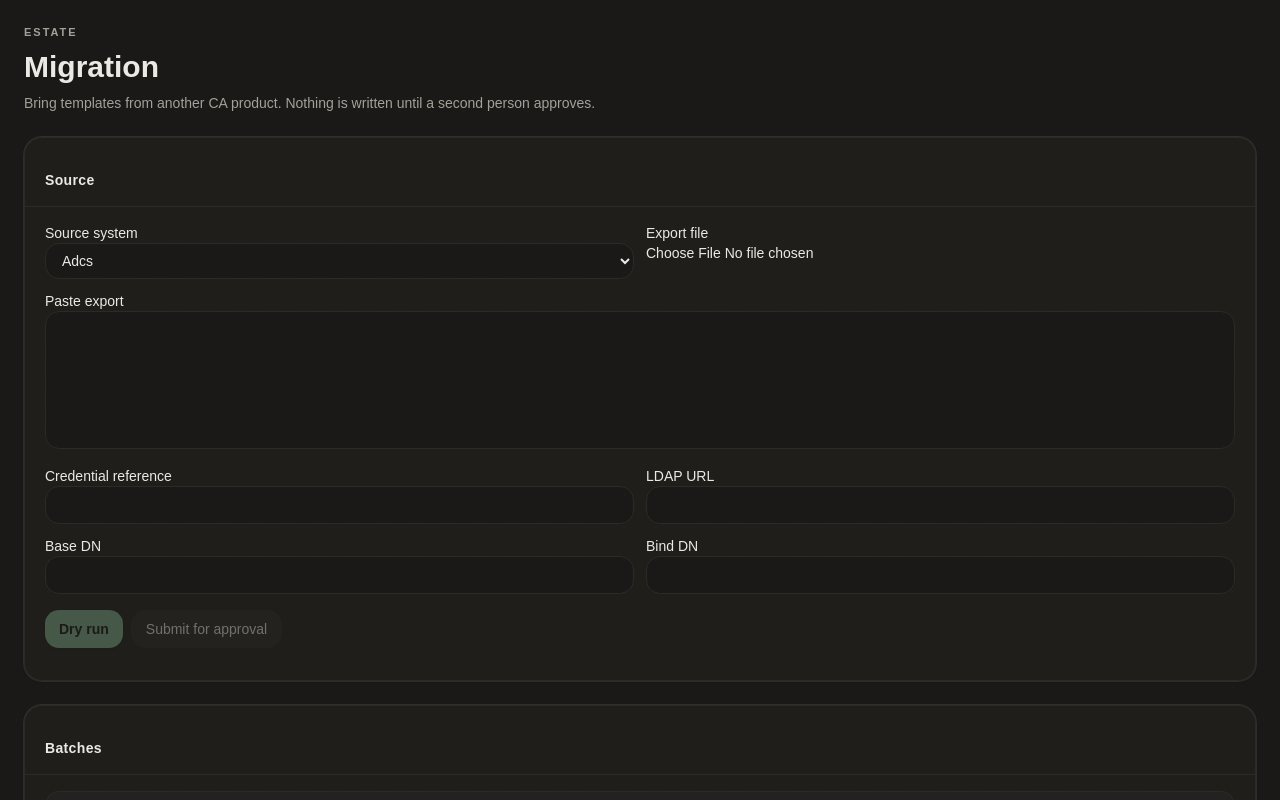
Scenario: Migration › an update-only dry run can be submitted and shows the key-size note
Step 1. Select "Vault" in the dropdown labelled "Source system" → (340, 260), box [45,242,634,278]
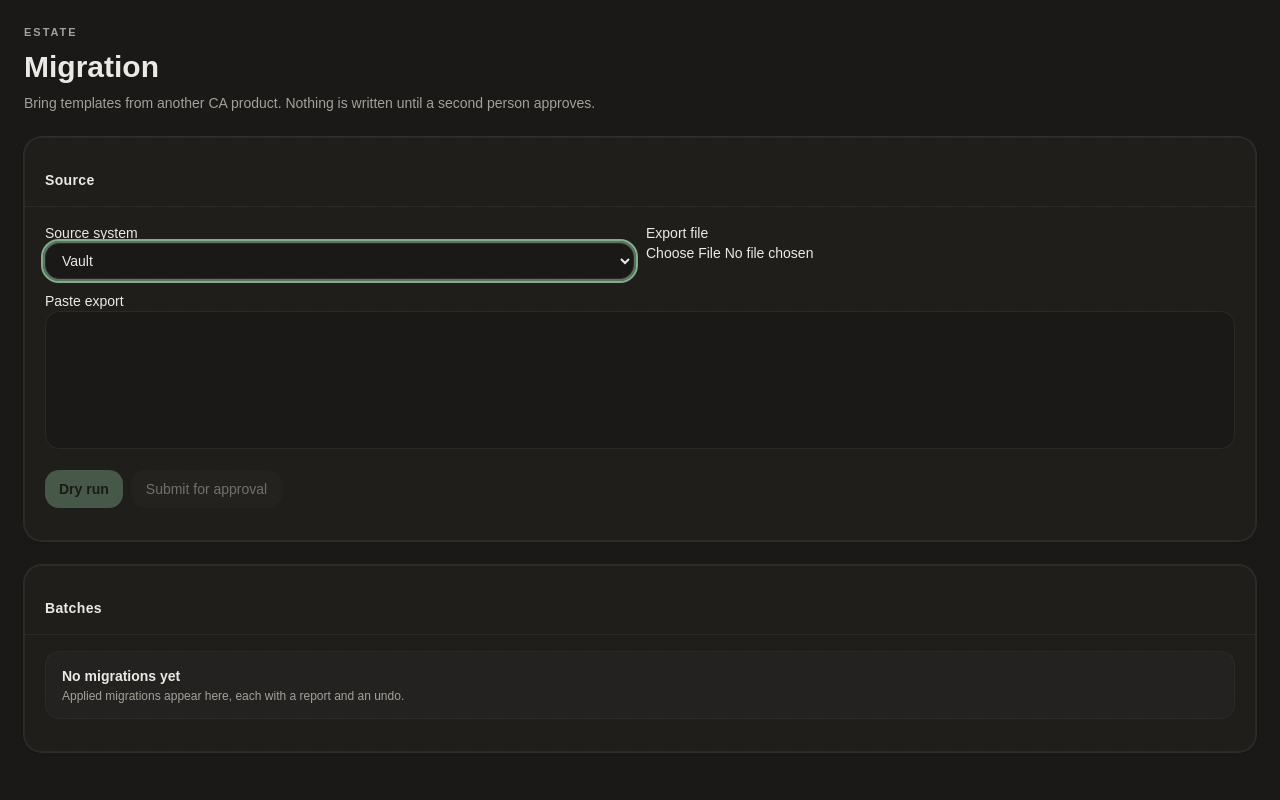
Step 2. Type "abc" into the text box labelled "Paste export" → (640, 380), box [45,310,1235,448]
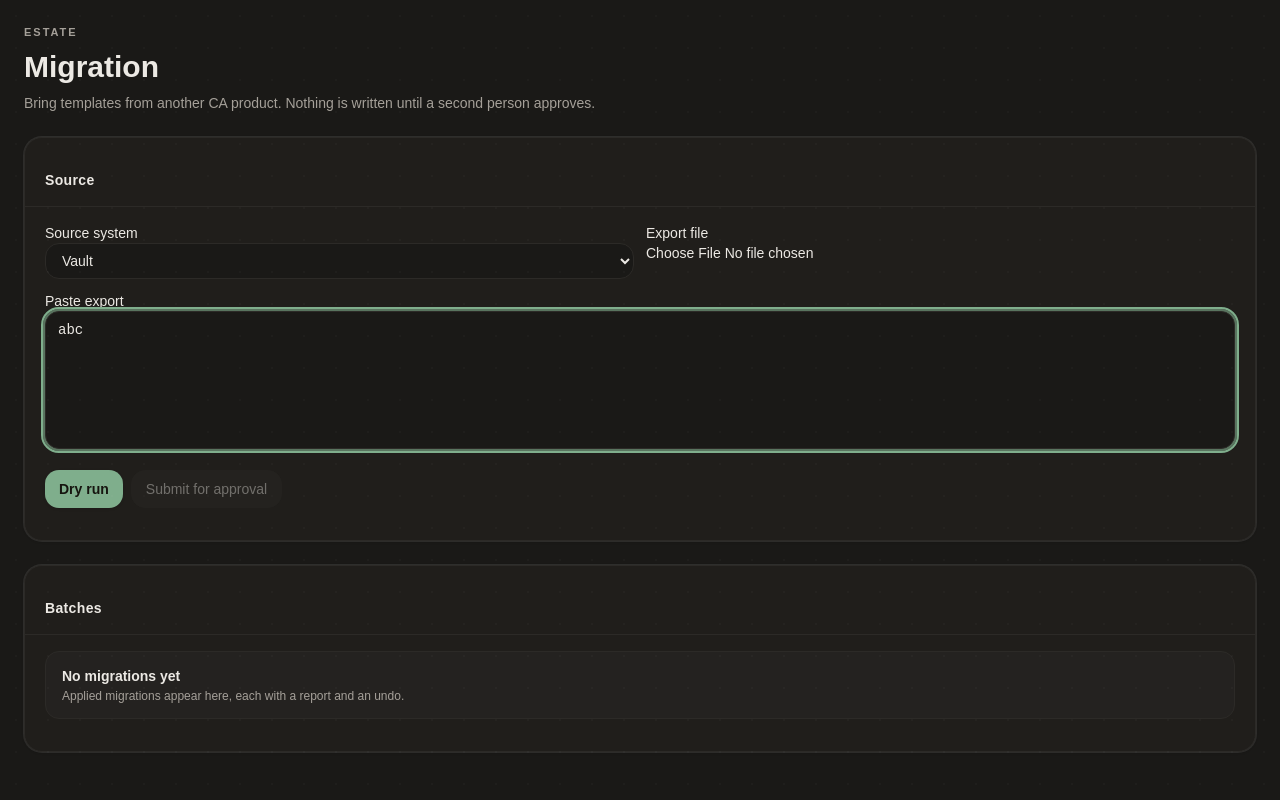
Step 3. Click the button "Dry run" → (84, 488), box [45,470,123,508]
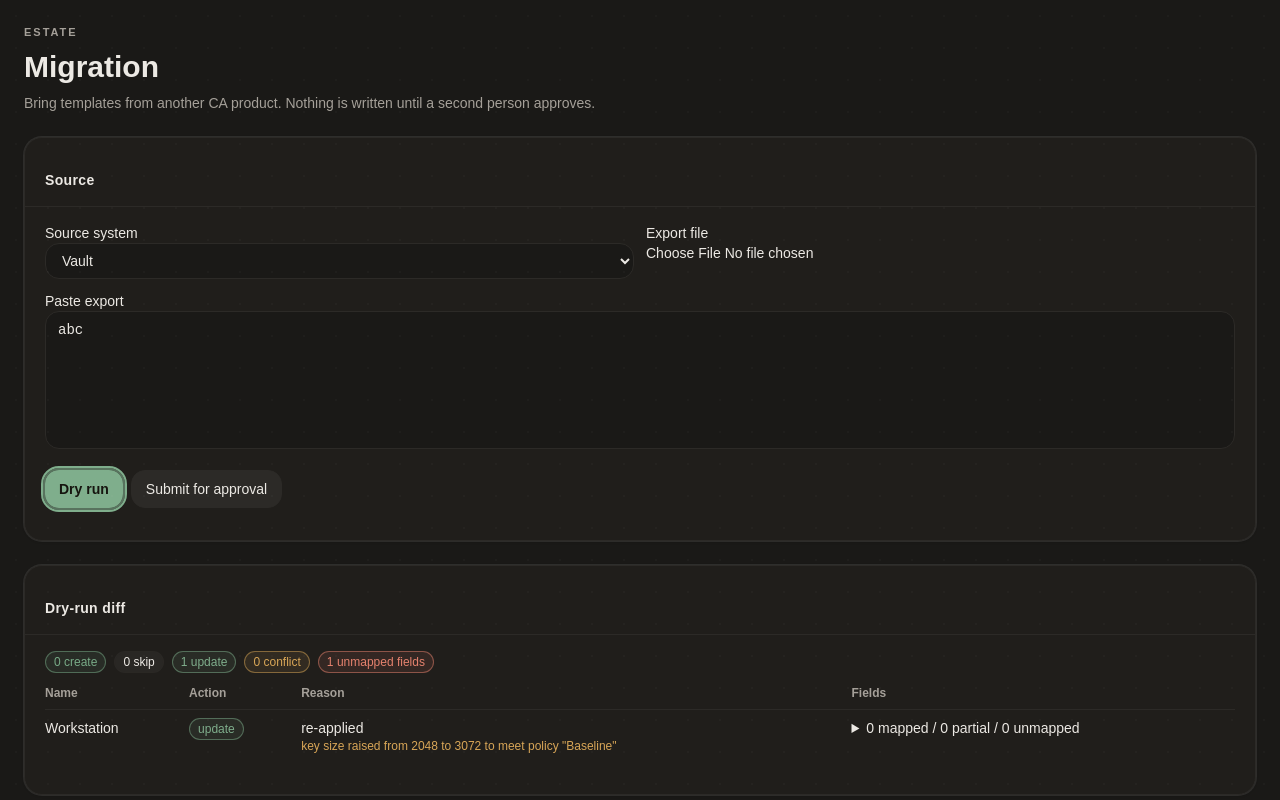
Now the text "1 update" is shown, box [172,650,236,672]
Now the text "key size raised from 2048 to 3072 to meet policy \"Baseline\"" is shown, box [301,738,617,752]
Now the button "Submit for approval" is enabled, box [131,470,282,508]
